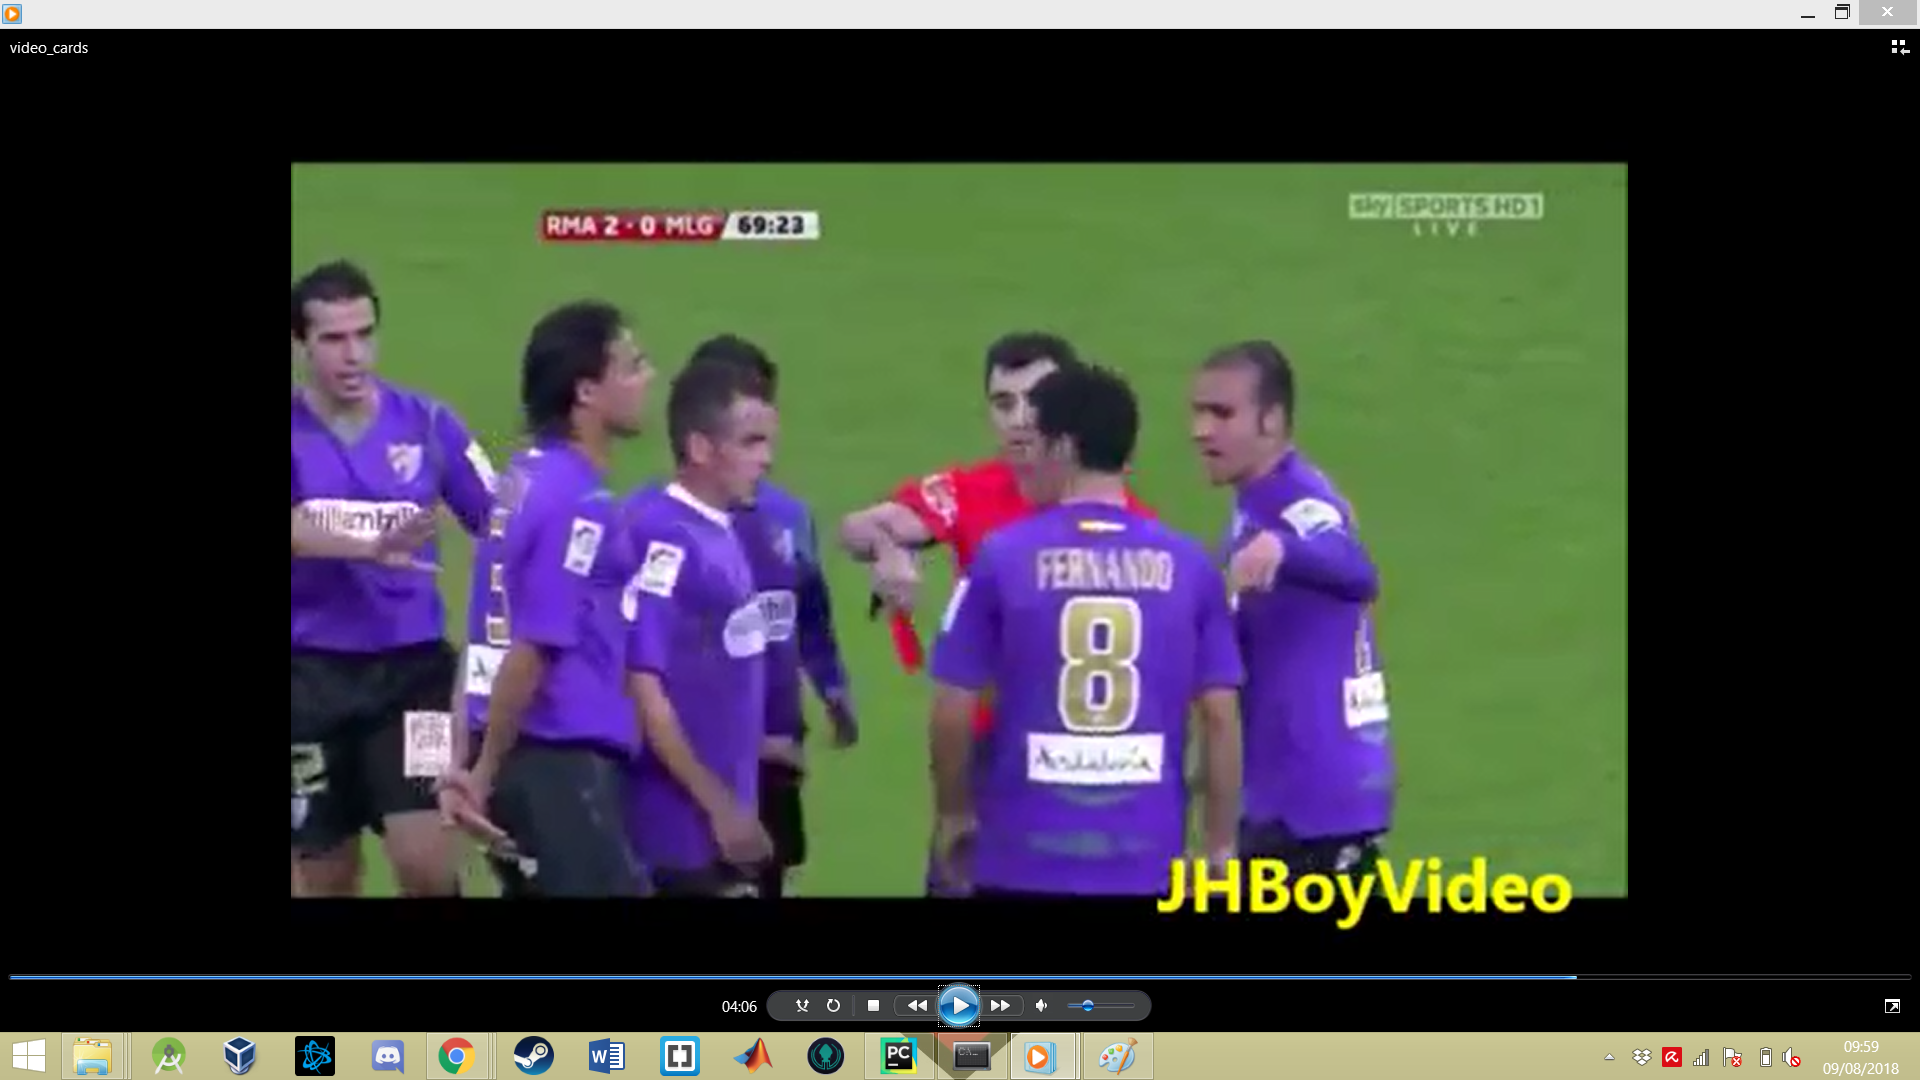red_card: (860, 545, 928, 680)
